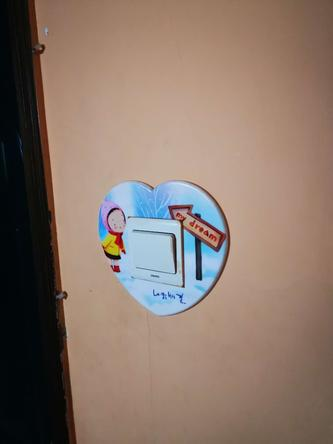switch: (127, 225, 178, 275)
